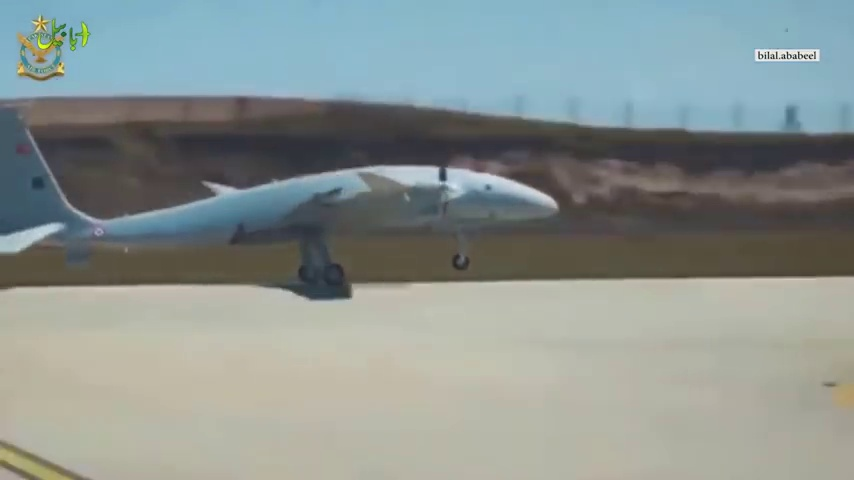military drone: (0, 103, 561, 285)
